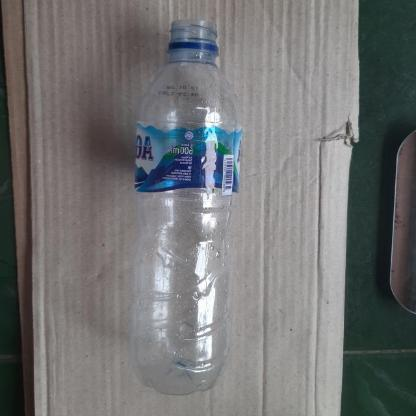Plastic Bottle: (128, 19, 242, 401)
